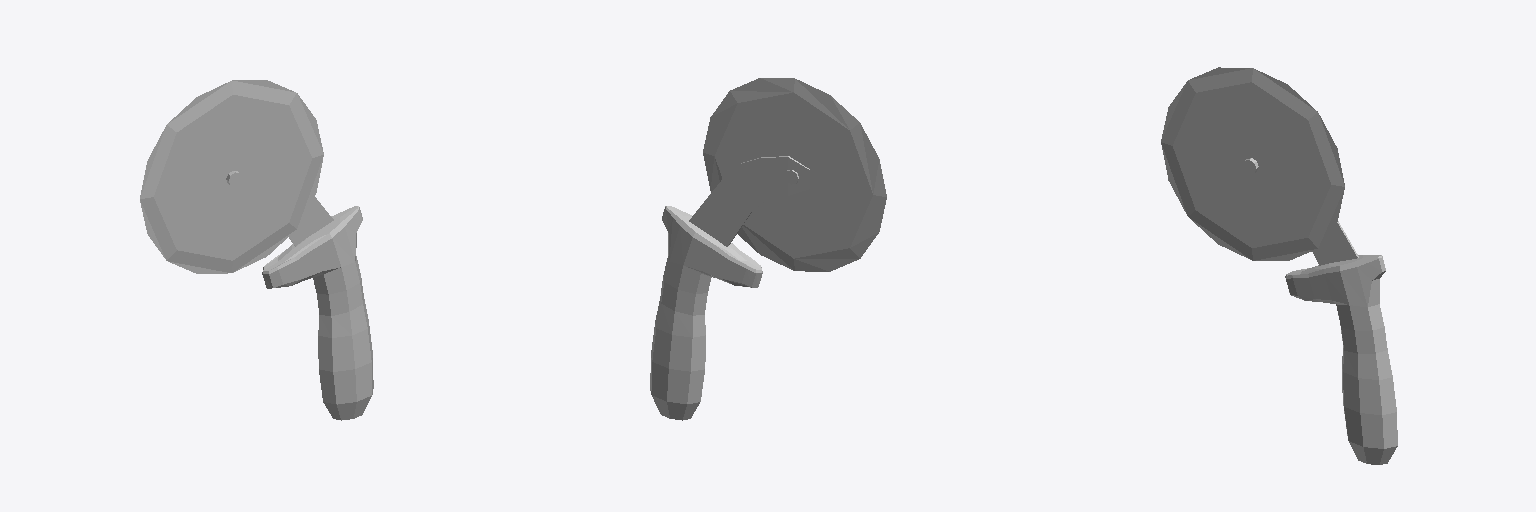
Rendered from cutensils_pizza_cutter.obj.
3 views of the same model, side by side, from view 1: azimuth 30°, elevation 25°; view 2: azimuth 150°, elevation 25°; view 3: azimuth 330°, elevation 25° (orthographic).
Parts seen in each view (by area): view 1: cutensils_pizza_cutter_Cylinder.033; view 2: cutensils_pizza_cutter_Cylinder.033; view 3: cutensils_pizza_cutter_Cylinder.033.
Boxes of the visible parts, box(x1,y1,x2,y2) form: cutensils_pizza_cutter_Cylinder.033: box(140, 80, 373, 420); cutensils_pizza_cutter_Cylinder.033: box(650, 78, 886, 420); cutensils_pizza_cutter_Cylinder.033: box(1161, 67, 1397, 464).
Size of the model in its own units: 4.53 by 6.71 by 0.6286.